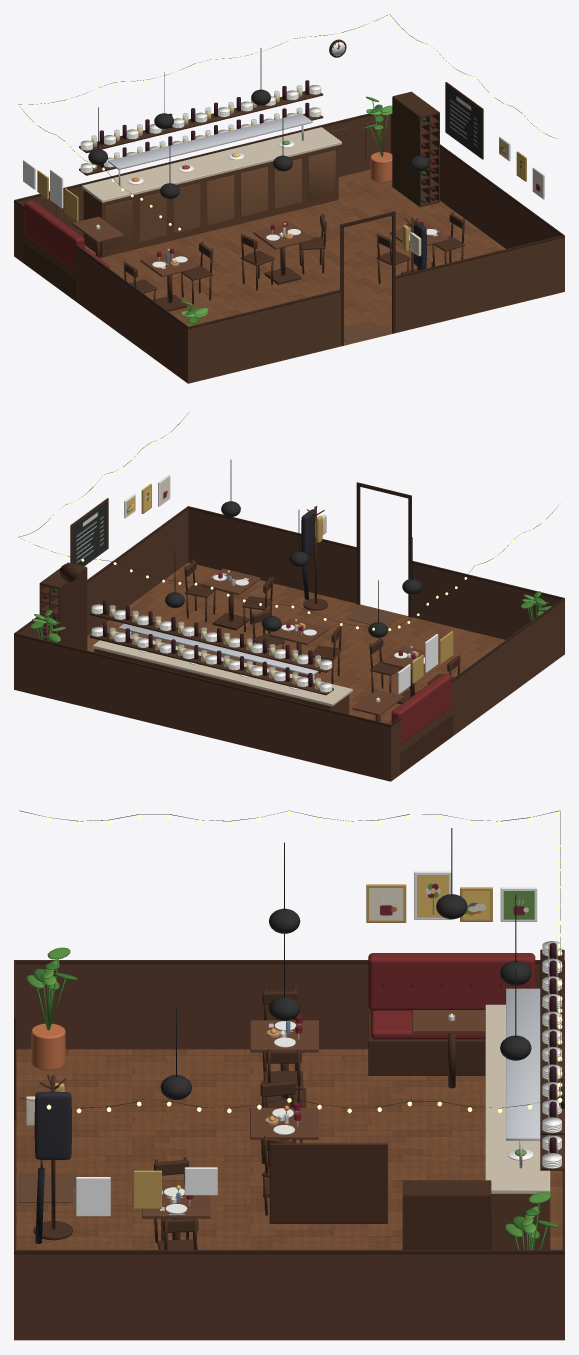
The model's file is place_restaurant-BWqu2SmP.glb.
3 renders of one model, top to bottom at view 1: azimuth 30°, elevation 25°; view 2: azimuth 150°, elevation 25°; view 3: azimuth 270°, elevation 25°, orthographic. The views are drawn at different scales.
Parts seen in each view (by area): view 1: Floor_place, Bar_bar, Tile_wainscot_south1, Tile_wainscot_south0, Tile_wainscot_west, Tile_wainscot_east, Wall_shelves_kitchen-shelves, WineRack_wine-rack, Booth_booth, Tile_wainscot_north, Wall_menu, Wall_frames_frames-west (+20 smaller); view 2: Tile_wainscot_north, Floor_place, Tile_wainscot_south1, Wall_shelves_kitchen-shelves, Tile_wainscot_west, Tile_wainscot_south0, Bar_bar, Tile_wainscot_east, Booth_booth, WineRack_wine-rack, Wall_menu, CoatRack_coat-rack (+20 smaller); view 3: Floor_place, Tile_wainscot_east, Tile_wainscot_west, Booth_booth, Bar_bar, Wall_menu, WineRack_wine-rack, Wall_frames_frames-west, Wall_shelves_kitchen-shelves, CoatRack_coat-rack, Wall_frames_frames-east, Plant_plant-sw (+21 smaller).
Part boxes in pixels (x1,y1,x2,y2): Floor_place: (14, 169, 555, 383); Bar_bar: (82, 113, 341, 257); Tile_wainscot_south1: (395, 237, 564, 332); Tile_wainscot_south0: (188, 292, 340, 383); Tile_wainscot_west: (14, 202, 187, 383); Tile_wainscot_east: (390, 114, 560, 248); Wall_shelves_kitchen-shelves: (79, 80, 323, 175); WineRack_wine-rack: (392, 91, 439, 207); Booth_booth: (23, 200, 109, 301); Tile_wainscot_north: (14, 114, 390, 255); Wall_menu: (445, 82, 483, 159); Wall_frames_frames-west: (23, 160, 78, 221); Tile_wainscot_north: (14, 635, 390, 781); Floor_place: (14, 562, 563, 781); Tile_wainscot_south1: (188, 509, 356, 603); Wall_shelves_kitchen-shelves: (89, 600, 333, 695); Tile_wainscot_west: (391, 600, 564, 780); Tile_wainscot_south0: (412, 563, 564, 654); Bar_bar: (92, 623, 352, 714); Tile_wainscot_east: (18, 509, 188, 638); Booth_booth: (387, 673, 452, 774); WineRack_wine-rack: (39, 562, 87, 650); Wall_menu: (70, 498, 108, 566); CoatRack_coat-rack: (301, 506, 327, 610); Floor_place: (16, 1049, 562, 1249); Tile_wainscot_east: (14, 1254, 564, 1340); Tile_wainscot_west: (16, 964, 540, 1049); Booth_booth: (368, 953, 535, 1075); Bar_bar: (485, 988, 550, 1249); Wall_menu: (269, 1143, 387, 1223); WineRack_wine-rack: (402, 1180, 491, 1249); Wall_frames_frames-west: (366, 871, 537, 922); Wall_shelves_kitchen-shelves: (540, 941, 564, 1170); CoatRack_coat-rack: (26, 1075, 72, 1243); Wall_frames_frames-east: (76, 1167, 217, 1216); Plant_plant-sw: (26, 947, 77, 1070).
Size of the model in its own units: 7 by 2.91 by 5.6.
66 materials, 9 textured.
